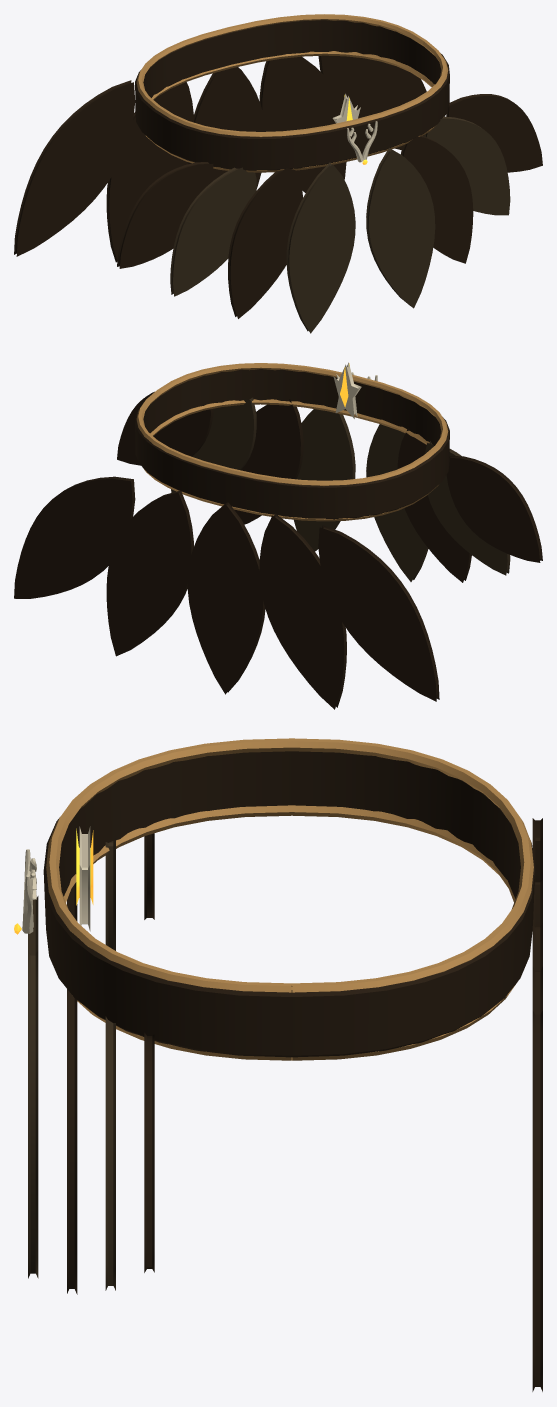
File: asc_wildroot_hunter_inner.glb
3 renders of one model, top to bottom at view 1: azimuth 30°, elevation 25°; view 2: azimuth 150°, elevation 25°; view 3: azimuth 270°, elevation 25°, orthographic. The views are drawn at different scales.
Parts seen in each view (by area): view 1: asc_wildroot_hunter_inner, AT_thigh_R, AT_thigh_L; view 2: asc_wildroot_hunter_inner, AT_thigh_R, AT_thigh_L; view 3: asc_wildroot_hunter_inner, AT_thigh_L, AT_thigh_R.
Part boxes in pixels (bbox=[...]): asc_wildroot_hunter_inner: bbox=[14, 14, 449, 262]; AT_thigh_R: bbox=[117, 162, 355, 333]; AT_thigh_L: bbox=[366, 94, 542, 308]; asc_wildroot_hunter_inner: bbox=[14, 362, 449, 709]; AT_thigh_R: bbox=[366, 424, 542, 582]; AT_thigh_L: bbox=[117, 391, 355, 551]; asc_wildroot_hunter_inner: bbox=[14, 738, 542, 1391]; AT_thigh_L: bbox=[28, 950, 154, 1294]; AT_thigh_R: bbox=[28, 833, 154, 954].
Bounding box in the file's own units: 0.7108 × 0.389 × 0.4088.
